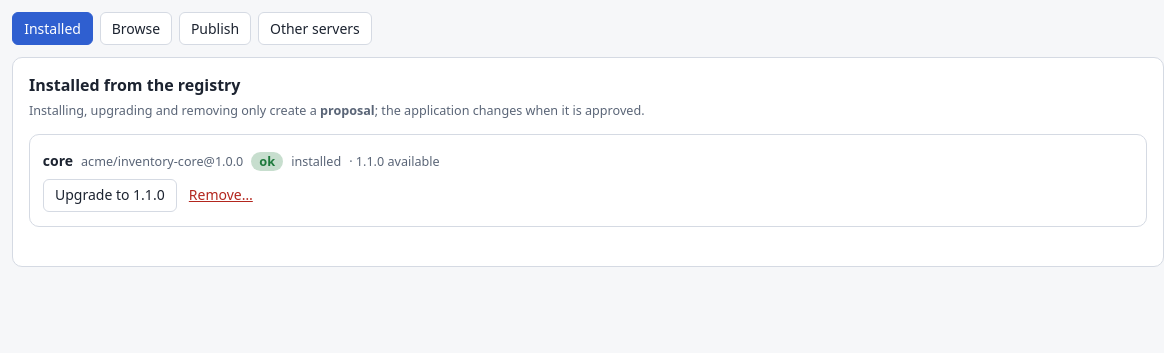
it: Registry: installed modules › proposes an upgrade and shows the steps
Click the button "Upgrade to 1.1.0".
click(110, 196)  # box [43,179,177,212]
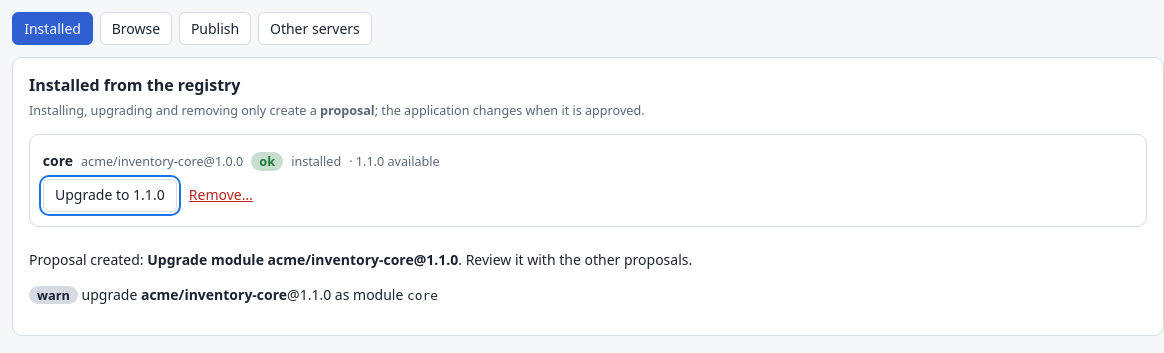
Expected: the text "Upgrade module acme/inventory-core@1.1.0" is shown, [147,250,458,269]
Expected: the list item "warn upgrade acme/inventory-core@1.1.0 as module core" is shown, [29,285,438,304]
